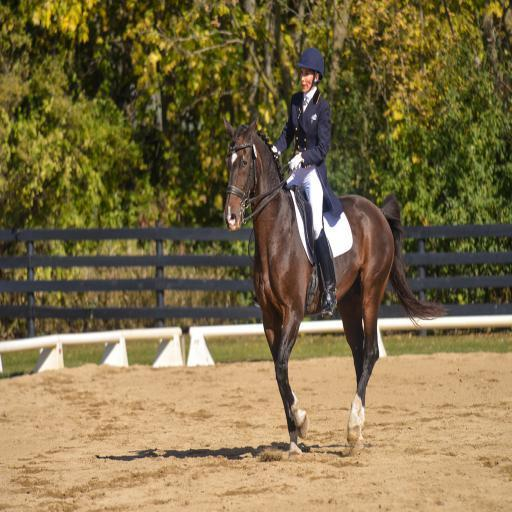horse: (221, 115, 451, 455)
